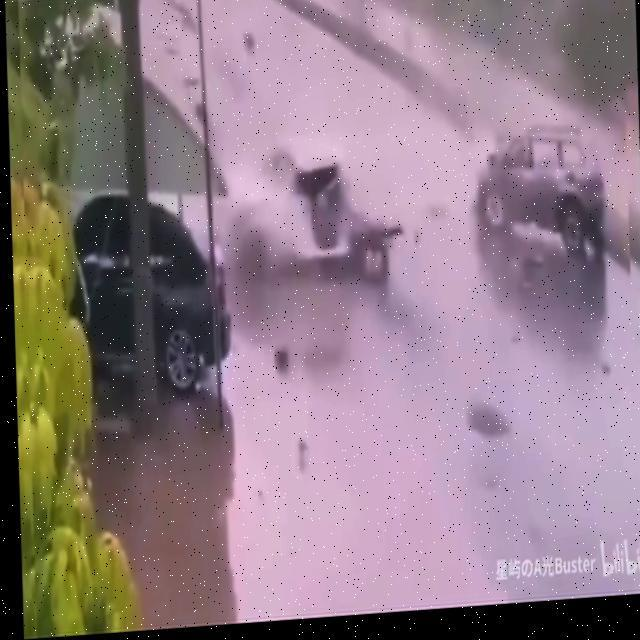multiple_accident: (222, 125, 622, 296)
